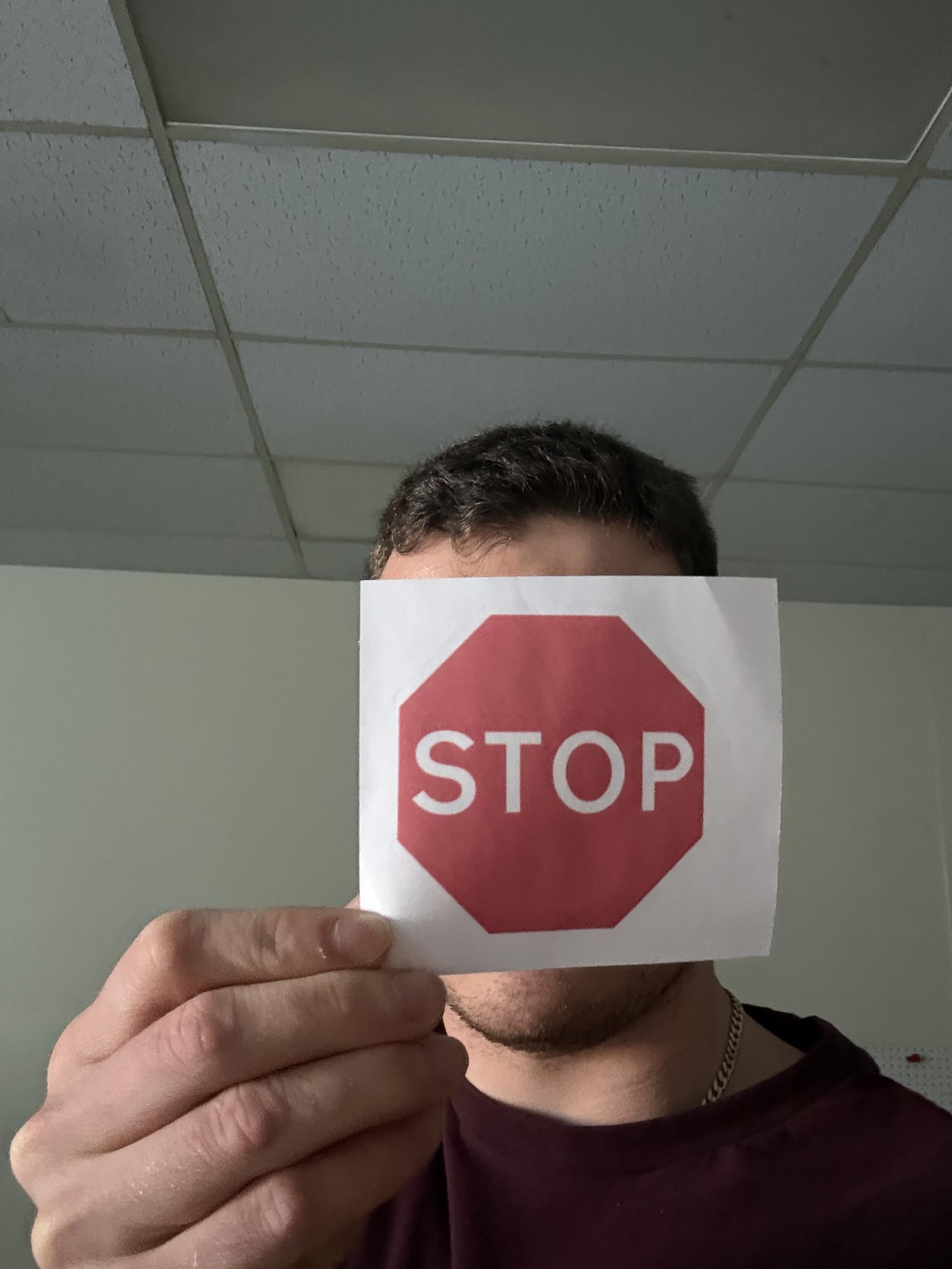Stop: (270, 780, 584, 1268)
